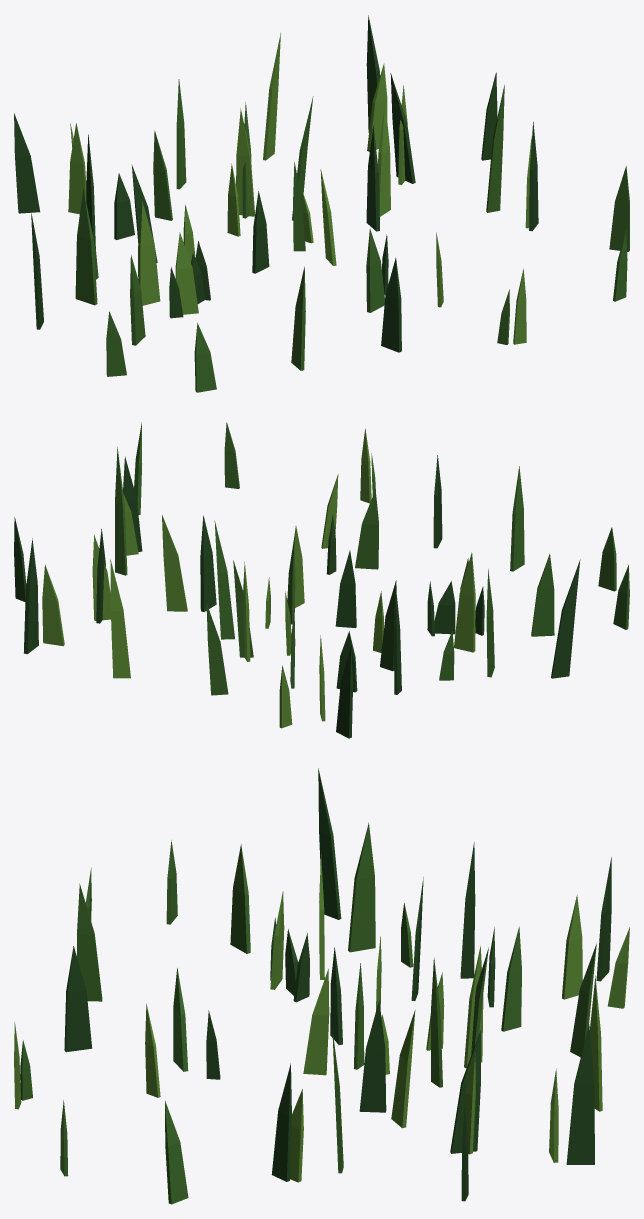
The model's file is grass_meadow_c.glb.
The picture shows the model from 3 angles, top to bottom: view 1: azimuth 30°, elevation 25°; view 2: azimuth 150°, elevation 25°; view 3: azimuth 270°, elevation 25°; orthographic projection. The views are drawn at different scales.
Visible parts, largest first — view 1: Meadow_2.002, Meadow_1.002, Meadow_3.002; view 2: Meadow_2.002, Meadow_1.002, Meadow_3.002; view 3: Meadow_1.002, Meadow_2.002, Meadow_3.002.
Boxes of the visible parts, x1,y1,x2,y2 form: Meadow_2.002: (75, 79, 629, 392); Meadow_1.002: (14, 15, 538, 352); Meadow_3.002: (68, 32, 531, 344); Meadow_2.002: (115, 422, 629, 695); Meadow_1.002: (14, 455, 580, 738); Meadow_3.002: (42, 428, 475, 728); Meadow_1.002: (64, 768, 611, 1201); Meadow_2.002: (20, 822, 596, 1204); Meadow_3.002: (14, 854, 629, 1182).
Bounding box in the file's own units: 2.24 × 0.5176 × 1.97.
